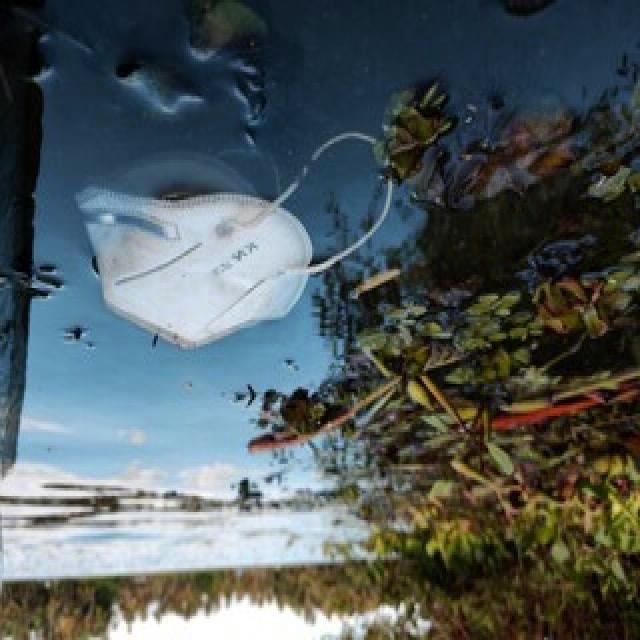Trash: (80, 123, 386, 350)
